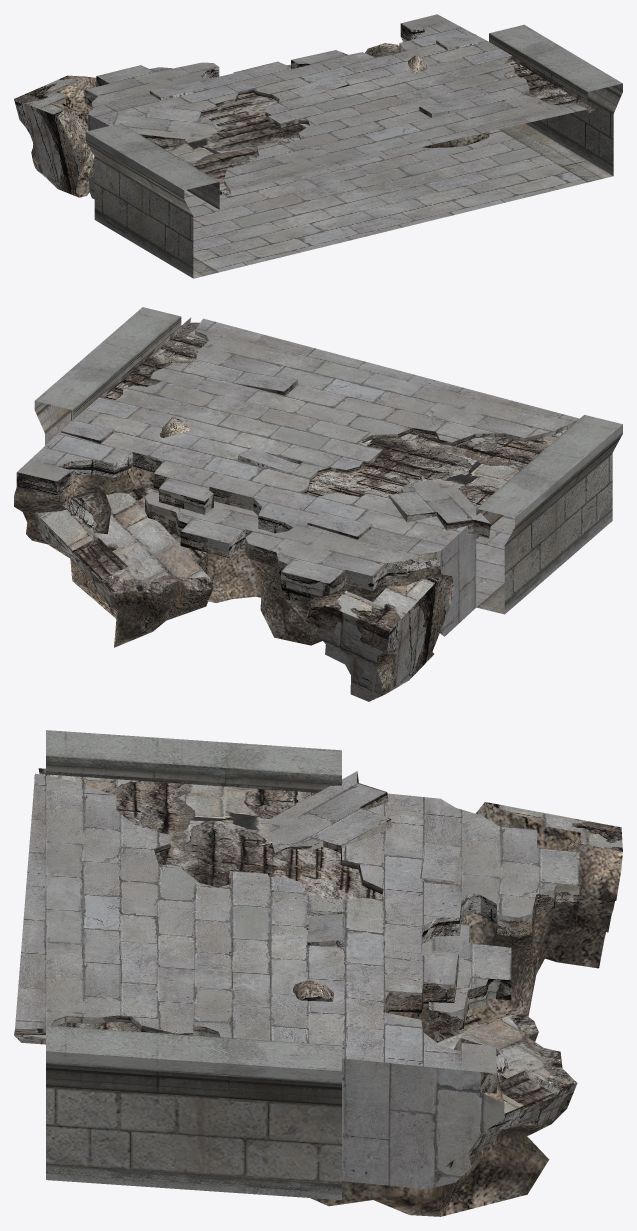
Rendered from StairEnd0.fbx.
3 views of the same model, one above another, from view 1: azimuth 30°, elevation 25°; view 2: azimuth 150°, elevation 25°; view 3: azimuth 270°, elevation 25° (orthographic). The views are drawn at different scales.
Parts seen in each view (by area): view 1: LV_Nigratruis_Lower_CastleBridge01_SM_HSH; view 2: LV_Nigratruis_Lower_CastleBridge01_SM_HSH; view 3: LV_Nigratruis_Lower_CastleBridge01_SM_HSH.
Part boxes in pixels (left/top/right/bottom): LV_Nigratruis_Lower_CastleBridge01_SM_HSH: left=14, top=14, right=622, bottom=278; LV_Nigratruis_Lower_CastleBridge01_SM_HSH: left=14, top=307, right=622, bottom=701; LV_Nigratruis_Lower_CastleBridge01_SM_HSH: left=14, top=730, right=622, bottom=1216.
Bounding box in the file's own units: 2 × 0.7179 × 1.6.
4 materials, 4 textured.
